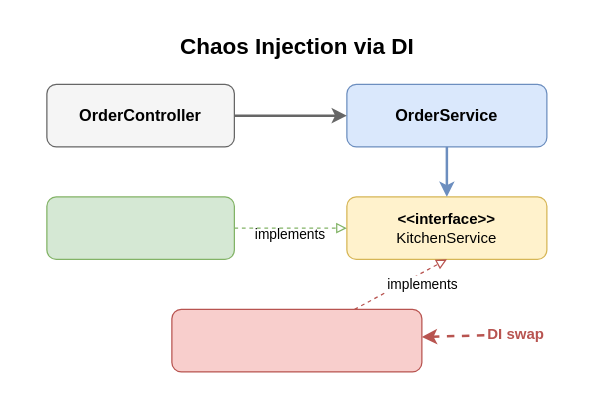
Image size: 593x418. Some labels were removed from this diagram. The shapes that lost their labels are listed below. From the top down, each one's centre as x and y in pixels, then its label:
the point at 140,227: RealKitchenService always works
the point at 296,340: ChaosKitchenService crashes 50% of the time
